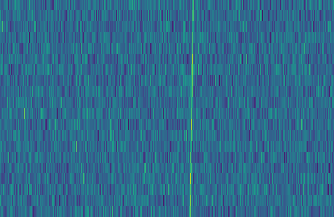signal: (185, 0, 197, 217)
